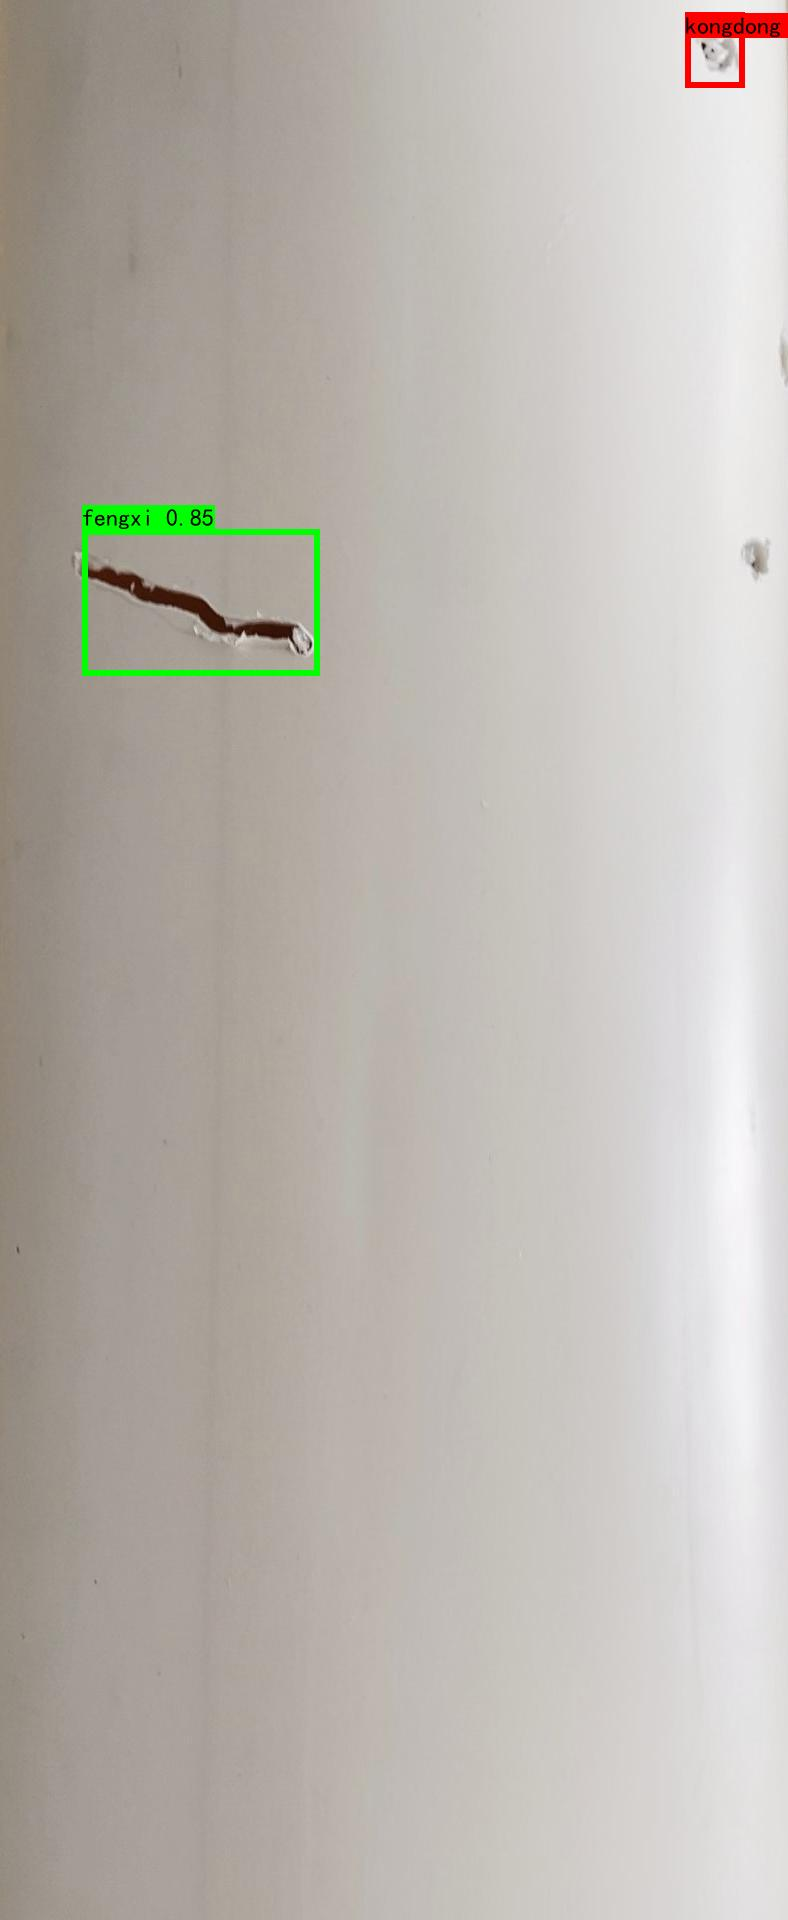fengxi: (69, 540, 328, 662)
kongdong: (694, 20, 744, 83), (742, 529, 788, 583)
